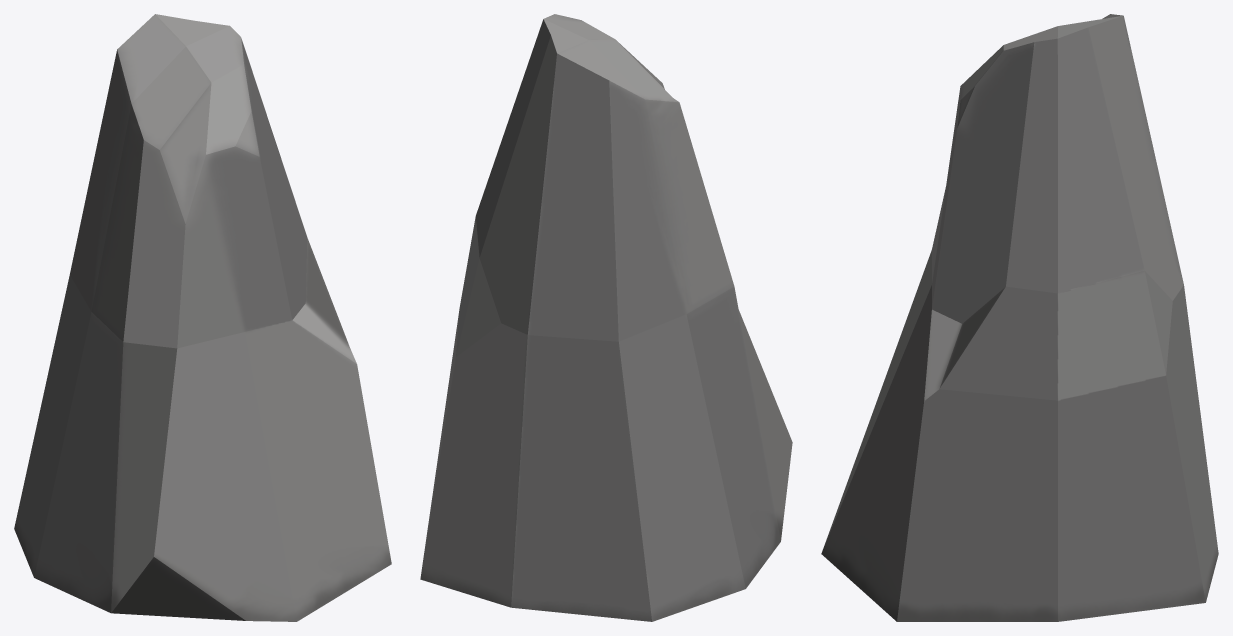
The model's file is stoneBig.fbx.
3 views of the same model, side by side, from view 1: azimuth 30°, elevation 25°; view 2: azimuth 150°, elevation 25°; view 3: azimuth 270°, elevation 25° (orthographic). The views are drawn at different scales.
Visible parts, largest first — view 1: stoneBig; view 2: stoneBig; view 3: stoneBig.
Boxes of the visible parts, <box> form: stoneBig: <box>14,14,391,621</box>; stoneBig: <box>420,14,792,621</box>; stoneBig: <box>821,14,1218,621</box>.
Bounding box in the file's own units: 76.01 × 130 × 86.76.
1 material, 1 textured.
